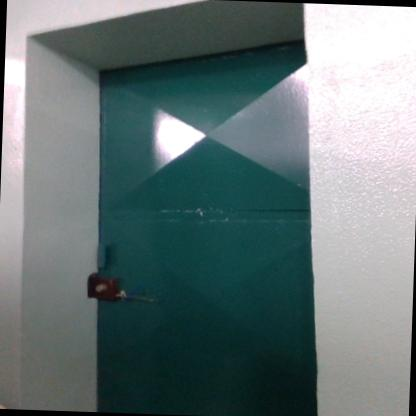closed: (24, 13, 313, 416)
